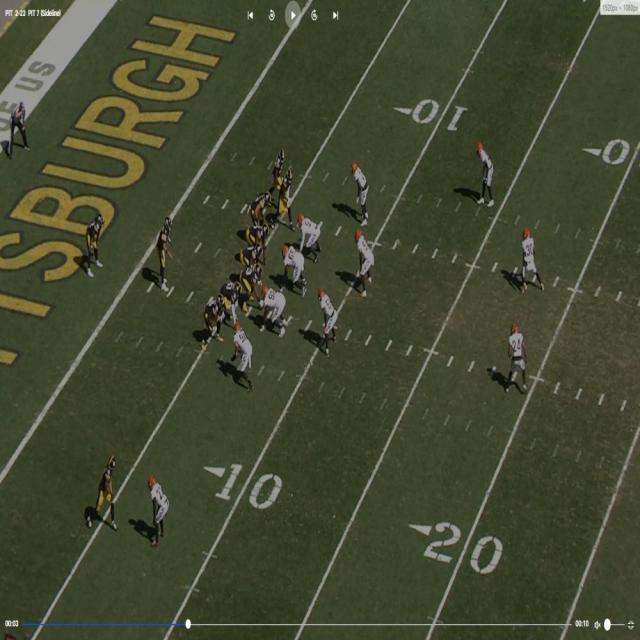center: (240, 266, 263, 304)
db: (149, 477, 167, 540), (513, 327, 530, 389), (478, 142, 494, 206), (524, 232, 538, 290)
lb: (353, 229, 373, 293), (320, 290, 338, 354), (351, 160, 368, 223)
qb: (155, 222, 170, 295)
skill: (93, 462, 117, 526), (87, 208, 107, 274), (278, 167, 292, 215), (252, 193, 273, 217), (274, 145, 287, 183)
